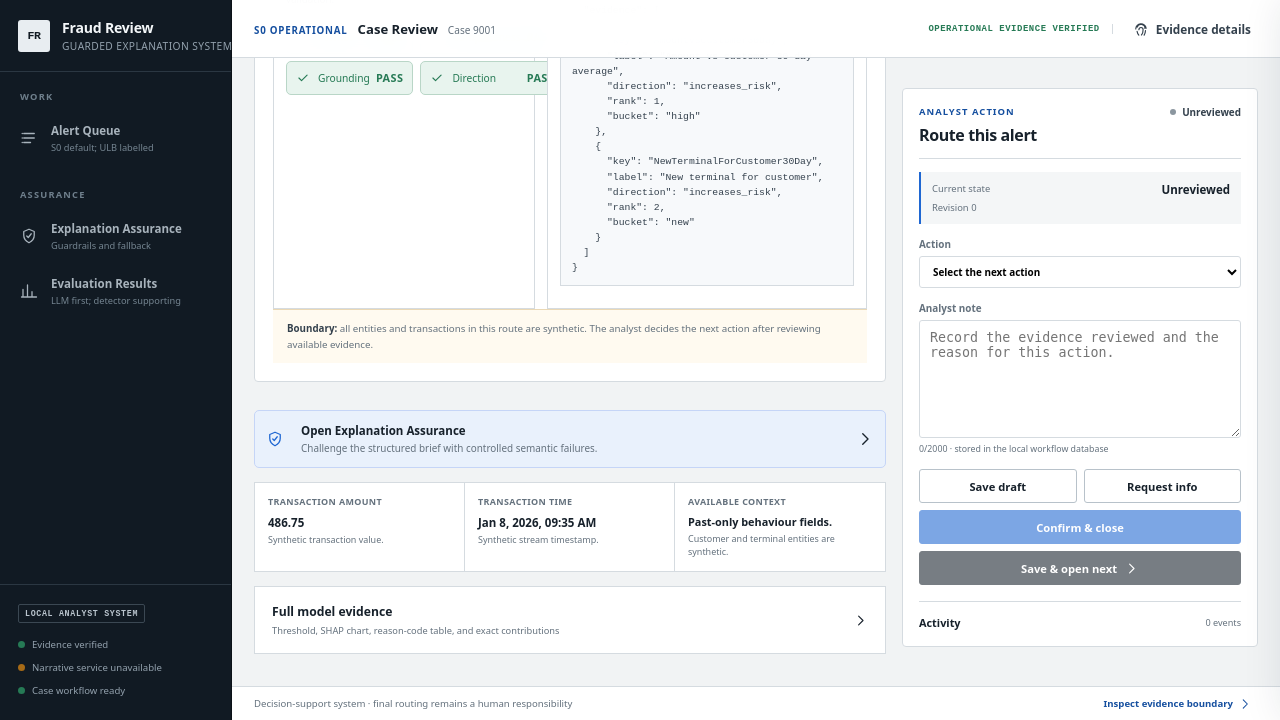
Test: Fraud Review Workbench › shows operational SHAP comparison and runs the S0 guardrail endpoint
(page scrolled)
Step 1. Click the link "Open Explanation Assurance" → point(570, 439), box [254,410,886,468]
(page scrolled)
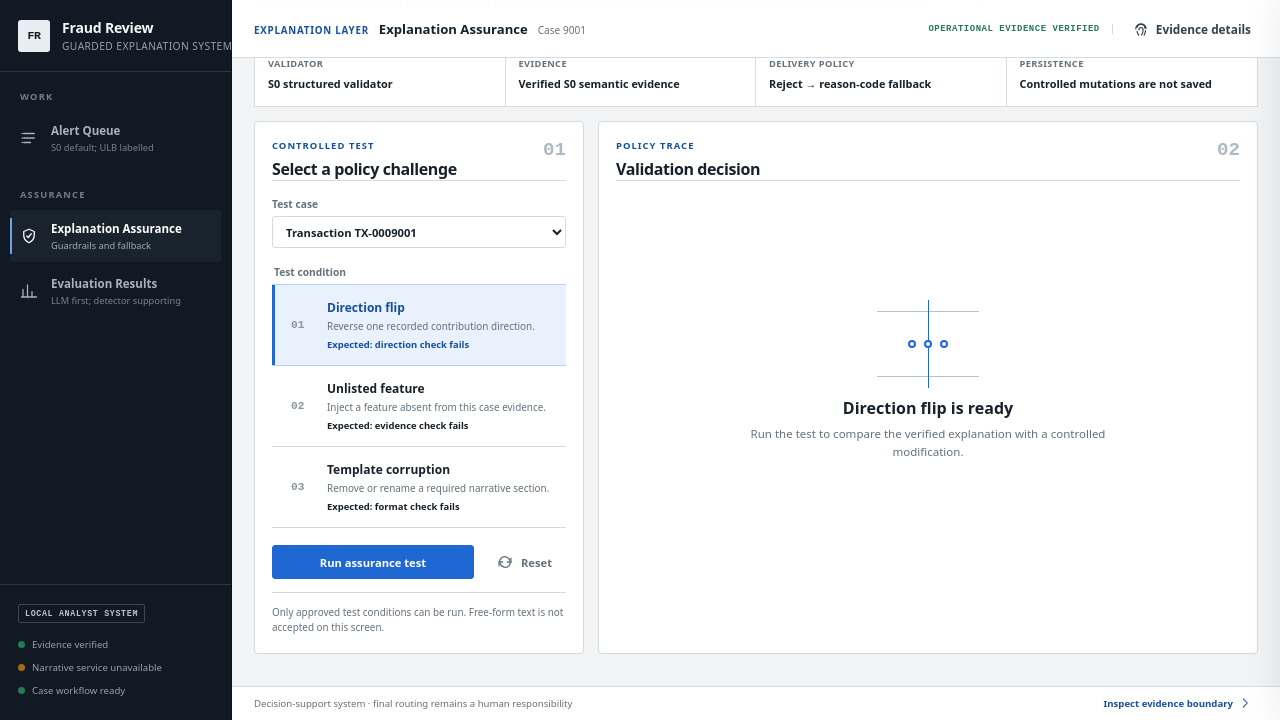
Step 2. Click the button "Run assurance test" → point(373, 562), box [272,545,474,579]
(page scrolled)
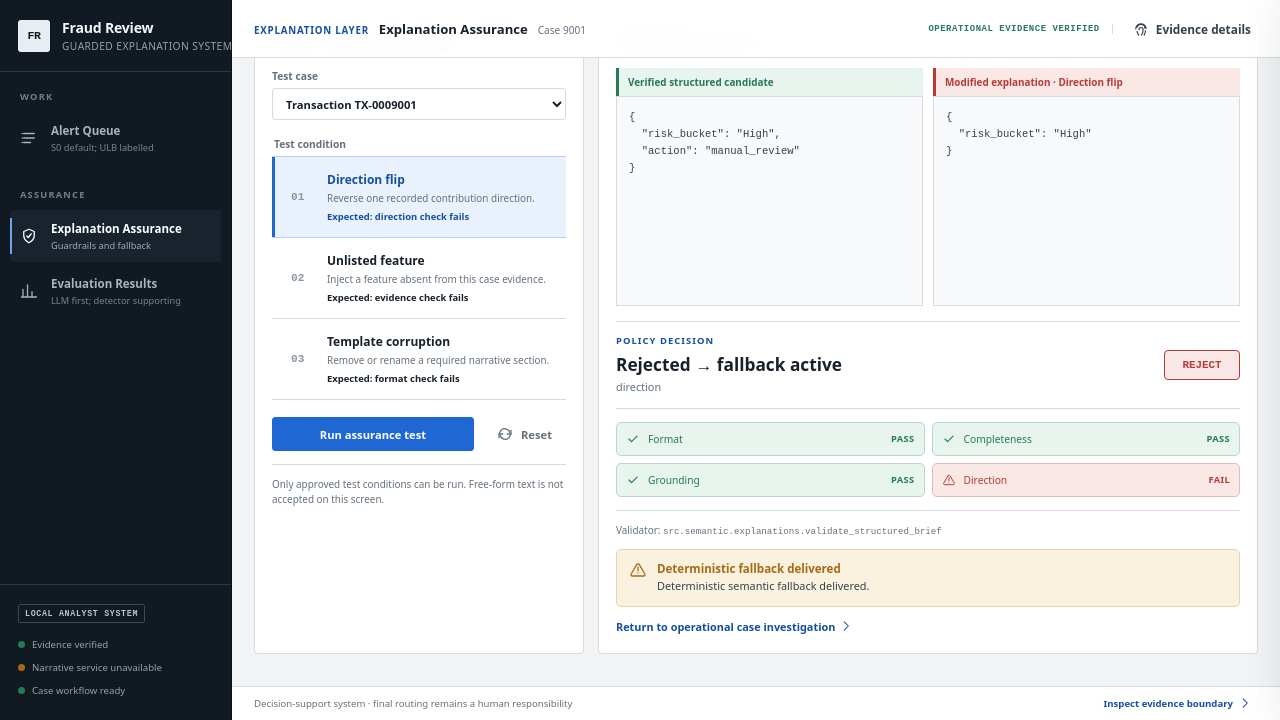
Check: the text "src.semantic.explanations.validate_structured_brief" is shown, box [663,526,942,537]
Check: the text "Deterministic semantic fallback delivered." is shown, box [657,578,869,595]
